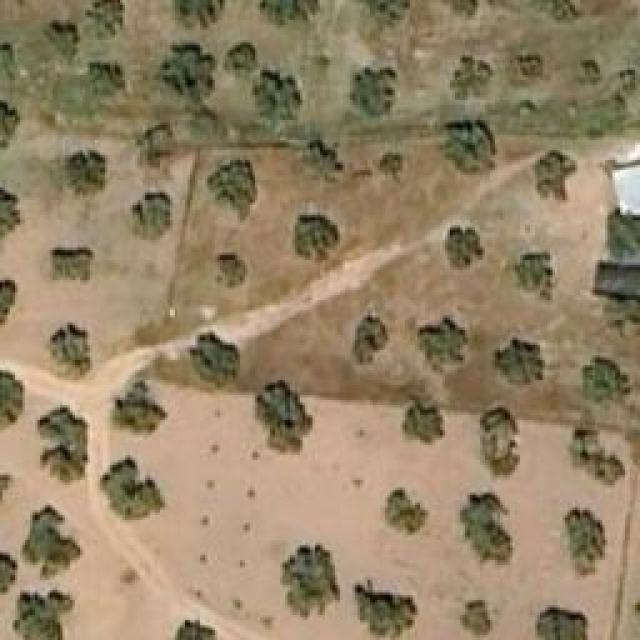Tree: (20, 505, 83, 580), (35, 403, 90, 486), (98, 453, 161, 523), (282, 545, 340, 618), (353, 575, 418, 640), (555, 505, 608, 580), (418, 318, 488, 373), (435, 115, 498, 175), (460, 493, 513, 563), (258, 380, 311, 448), (473, 408, 523, 478), (208, 158, 258, 223), (155, 45, 215, 98), (190, 333, 245, 388), (13, 590, 73, 640), (578, 358, 631, 411), (570, 430, 623, 483), (45, 322, 93, 380), (253, 68, 303, 121), (115, 380, 165, 433), (493, 337, 546, 385), (350, 68, 400, 118), (535, 150, 578, 203), (300, 135, 343, 185), (295, 215, 338, 263), (450, 55, 495, 100), (133, 123, 178, 168), (513, 253, 553, 303), (65, 150, 108, 195), (350, 0, 410, 32), (133, 192, 173, 240), (605, 205, 640, 258), (535, 607, 590, 640), (385, 488, 425, 533), (405, 398, 445, 443), (172, 0, 227, 32), (355, 313, 388, 366), (0, 367, 30, 425), (445, 228, 485, 271), (42, 20, 80, 65), (48, 248, 93, 283), (258, 0, 318, 25), (223, 43, 258, 83), (0, 180, 20, 248), (455, 600, 490, 638), (90, 0, 125, 38), (90, 63, 125, 98), (215, 253, 248, 288), (170, 617, 217, 640), (0, 100, 20, 148), (0, 278, 18, 331), (553, 0, 583, 30), (0, 550, 18, 598), (577, 60, 605, 90), (0, 42, 18, 80), (380, 152, 403, 180), (518, 55, 543, 78), (120, 567, 140, 585)
